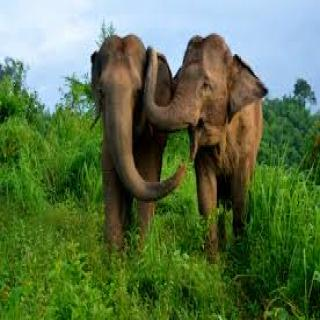Elephant: (173, 37, 271, 257), (86, 28, 172, 240)
